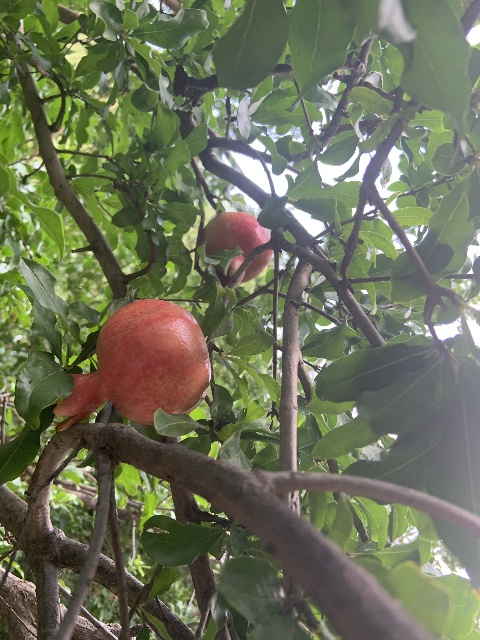ripe: (53, 299, 211, 432), (201, 211, 273, 284)
